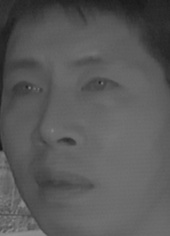eye: (79, 73, 123, 97), (8, 77, 46, 100)
mouth: (32, 163, 95, 208)
